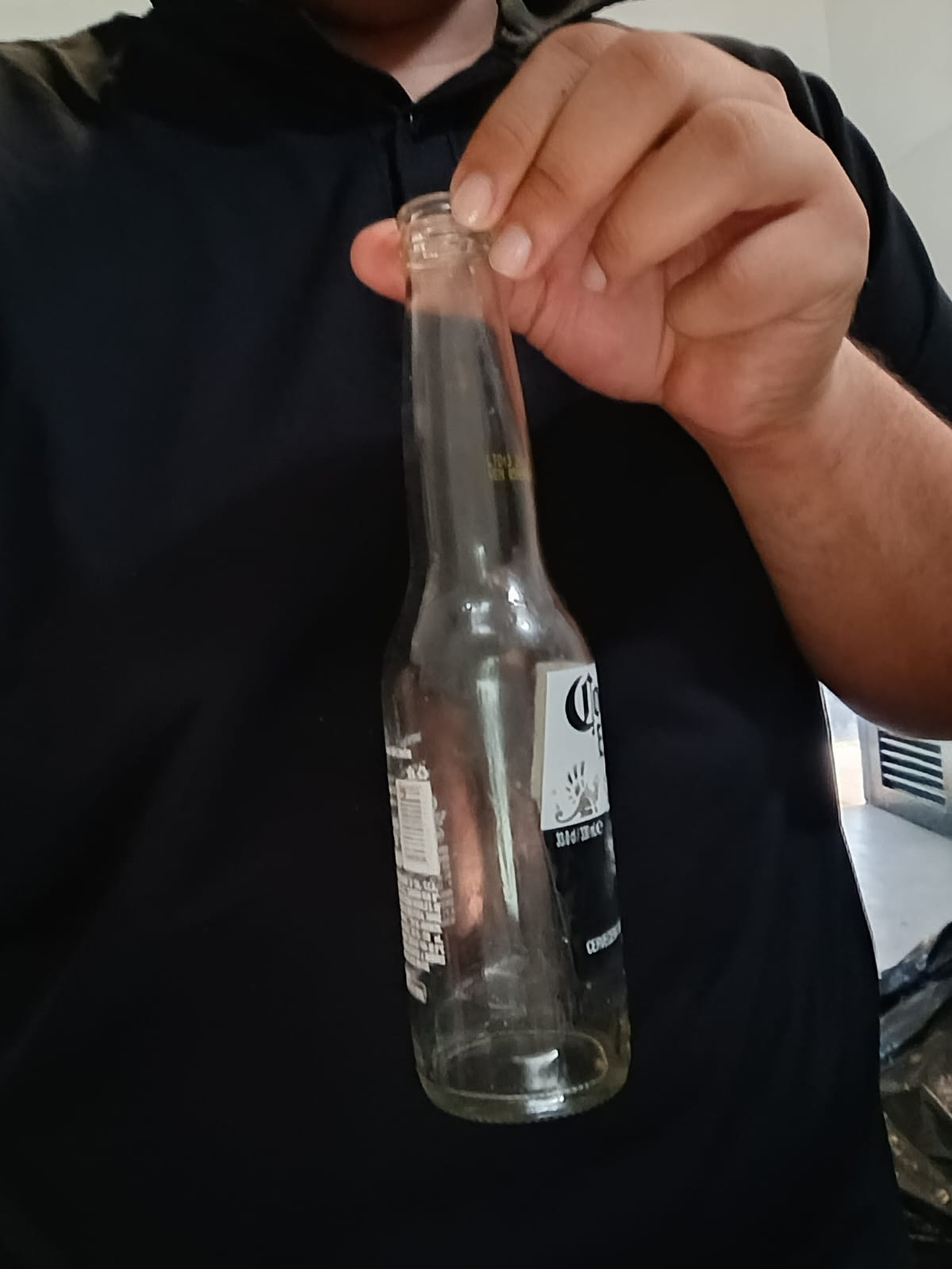Vidrio: (379, 196, 634, 1127)
